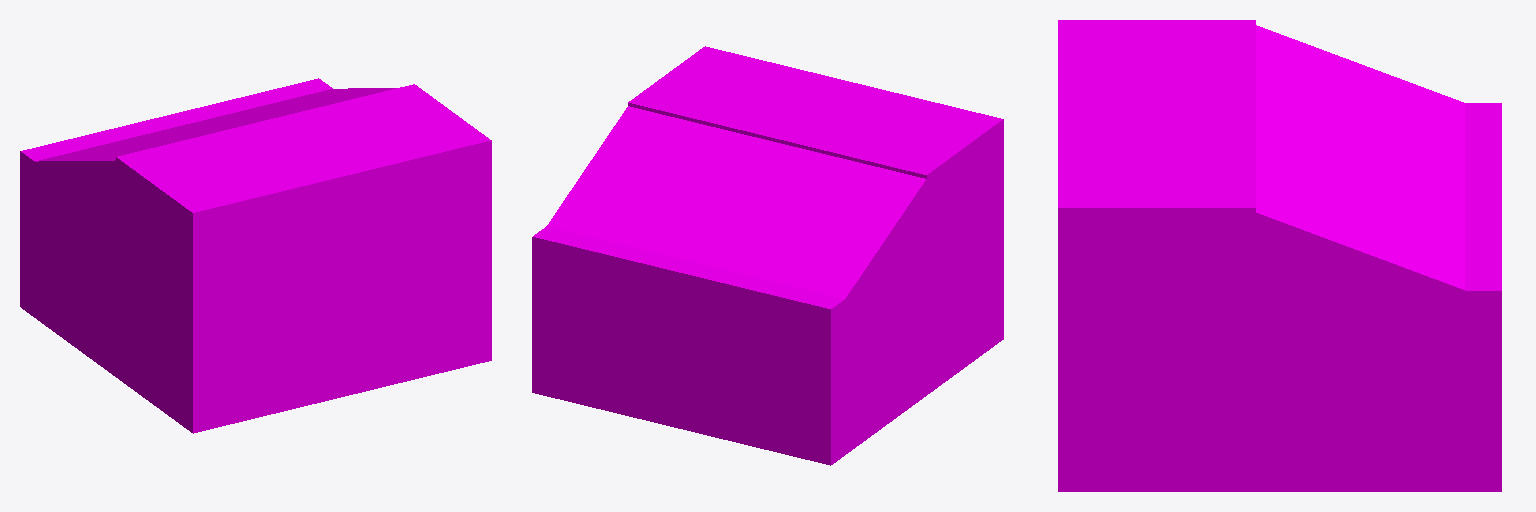
The robot description file, URDF, robot "prism":
<?xml version="1.0"?>
<robot name="prism">
  <link name="base_link">

    <inertial>
      <origin xyz="0 0 0" rpy="0 0 0" />
      <mass value="0.2" />
      <inertia ixx="0.00056" ixy="0" ixz="0" iyy="0.00042" iyz="0"
          izz="0.000813" />
    </inertial>

    <visual>
      <origin xyz="0 0 0" rpy="0 0 0" />
      <geometry>
        <box size="0.20 0.20 0.10" />
      </geometry>
      <material name="purple">
        <color rgba="1.0 0.0 1.0 1.0" />
      </material>
    </visual>
    <visual>
      <origin xyz="0 0.03 0.045" rpy="-0.39 0 0" />
      <geometry>
        <box size="0.20 0.12 0.05" />
      </geometry>
      <material name="purple">
        <color rgba="1.0 0.0 1.0 1.0" />
      </material>
    </visual>
    <visual>
      <origin xyz="0 -0.055385 0.068" rpy="0 0 0" />
      <geometry>
        <box size="0.20 0.08923 0.04615" />
      </geometry>
      <material name="purple">
        <color rgba="1.0 0.0 1.0 1.0" />
      </material>
    </visual>

    <collision>
      <origin xyz="0 0 0" rpy="0 0 0" />
      <geometry>
        <box size="0.20 0.2 0.10" />
      </geometry>
    </collision>
    <collision>
      <origin xyz="0 0.03 0.045" rpy="-0.39 0 0" />
      <geometry>
        <box size="0.20 0.12 0.05" />
      </geometry>
    </collision>
    <collision>
      <origin xyz="0 -0.055385 0.068" rpy="0 0 0" />
      <geometry>
        <box size="0.20 0.08923 0.04615" />
      </geometry>
    </collision>

  </link>

</robot>

--- Render facts (derived) ---
The picture shows the robot from 3 angles, left to right: view 1: azimuth 30°, elevation 25°; view 2: azimuth 150°, elevation 25°; view 3: azimuth 270°, elevation 25°; orthographic projection.
Robot: prism — 1 links, 0 joints (none); root link base_link; default pose: every joint at zero.
Links seen in each view (by area): view 1: base_link; view 2: base_link; view 3: base_link.
Link boxes in pixels (left/top/right/bottom): base_link: left=20, top=78, right=491, bottom=433; base_link: left=532, top=46, right=1003, bottom=465; base_link: left=1058, top=20, right=1501, bottom=491.
Size in the robot's own frame: 0.2 by 0.2 by 0.1411 metres.
Geometry: primitives only (box / cylinder / sphere), no mesh files.